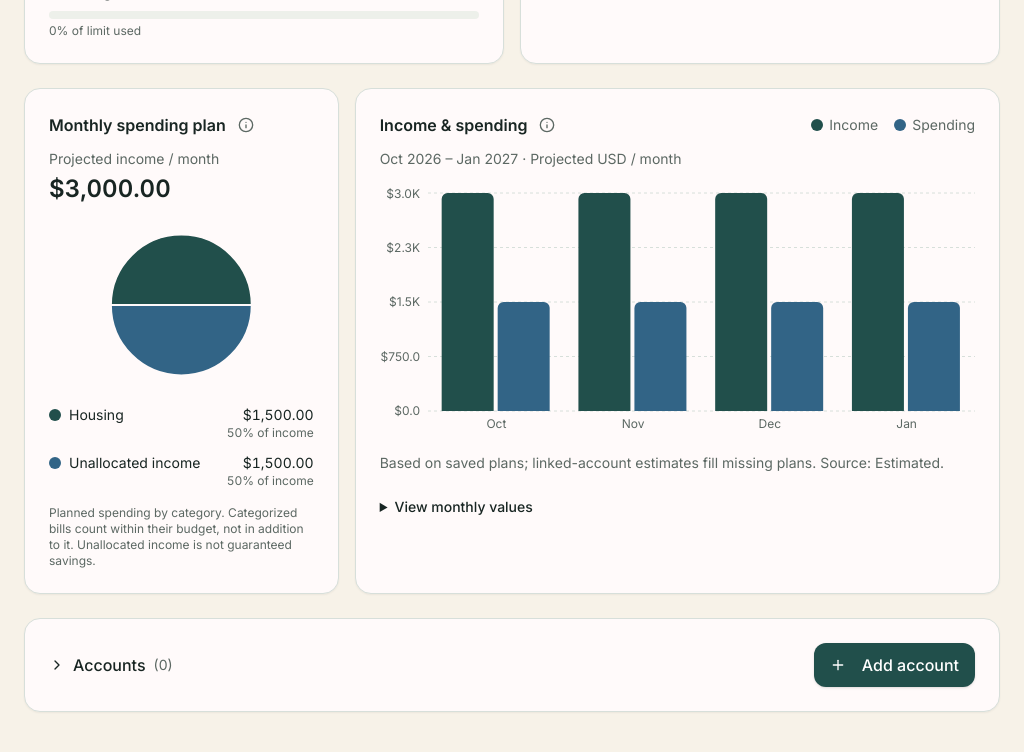
Test: Overview charts use the active authenticated dataset; SDK fixtures › keeps the Overview outlook consistent with a category that covers its bills
(page scrolled)
Expected: the text "Housing" below "Projected income / month" is shown, [69, 406, 124, 423]
Expected: the text "$1,500.00" is shown 2 times, [227, 405, 314, 441]; [227, 453, 314, 489]
Click the heading "View monthly values".
click(464, 506)  # box [394, 498, 533, 515]
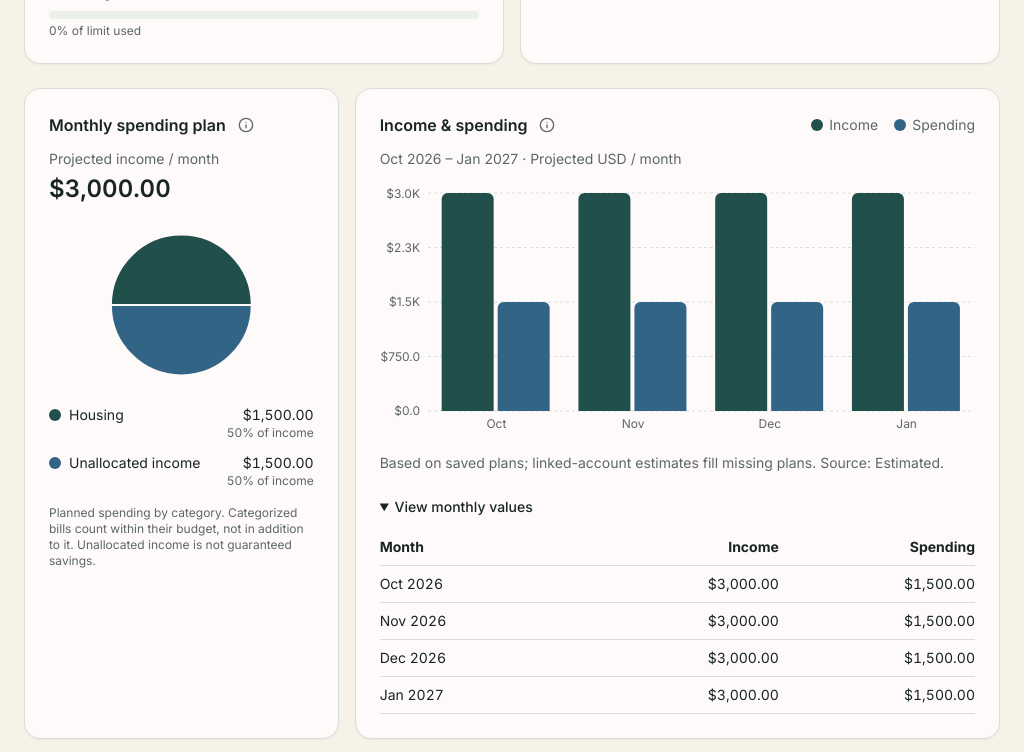
Expected: the text "$1,500.00" is shown 4 times, [787, 566, 975, 602]; [787, 602, 975, 640]; [787, 640, 975, 676]; [787, 676, 975, 714]
